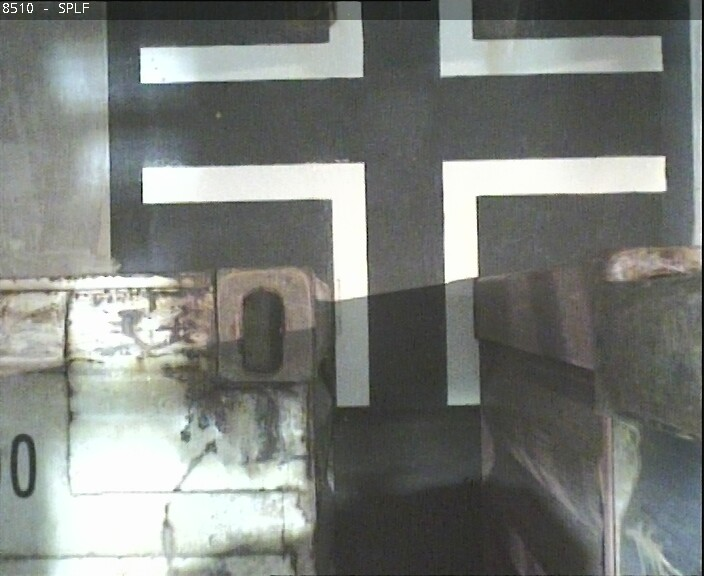groundmarker_1: (141, 159, 668, 406), (136, 1, 661, 88)
